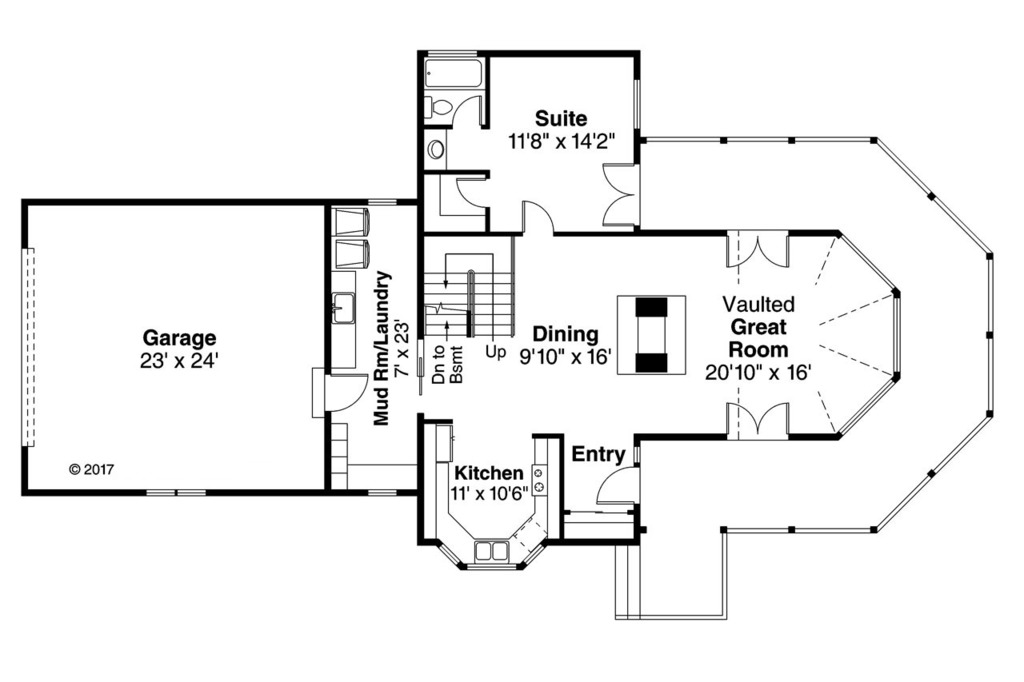door: (600, 159, 640, 230), (723, 229, 794, 268), (724, 398, 789, 439), (594, 468, 644, 504), (328, 372, 370, 411), (454, 172, 491, 211), (516, 200, 557, 233), (453, 95, 486, 126)
large_sink: (425, 92, 451, 121)
small_sink: (423, 128, 453, 180)
stairs: (422, 230, 519, 343)
tub: (424, 56, 486, 93)
twin_sink: (471, 535, 514, 564)
windows: (144, 487, 213, 500), (632, 77, 641, 128), (360, 487, 398, 498)
